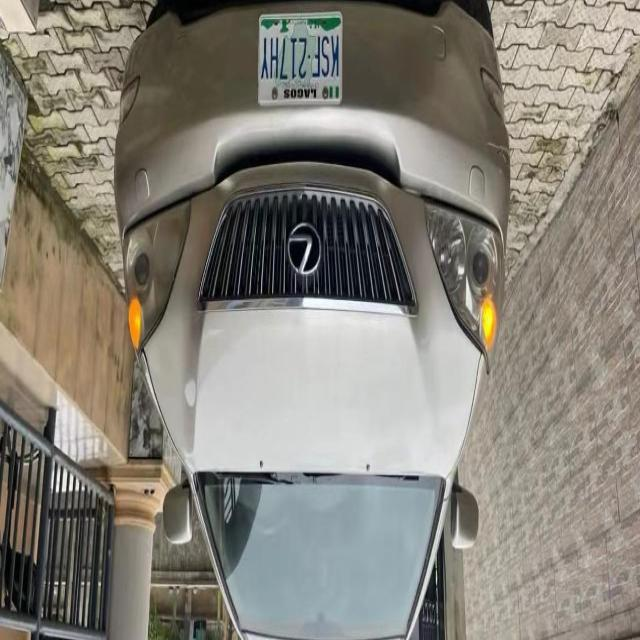Nigerian License Plate - vdataset benjamin-daria: (257, 10, 343, 109)
